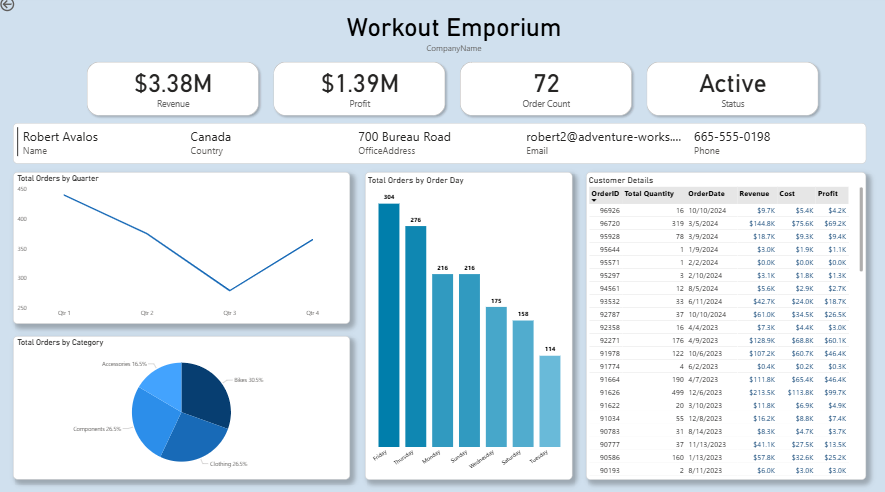

The page's visual inventory and layout, read from the dashboard file:
{"tool":"powerbi","page":{"name":"Customer","canvas":[1920,1080],"ordinal":1},"visuals":[{"type":"actionButton","box":[0,0,100,40],"z":0},{"type":"cardVisual","fields":{"Data":["FactSales.#Total Revenue","FactSales.#Profit","FactSales.#Order Count","Min(DimCustomer.Status)"]},"box":[175,127.5,1617.5,150],"z":1000},{"type":"multiRowCard","title":"Customer Details","fields":{"Values":["DimCustomer.Name","DimCustomer.Country","DimCustomer.OfficeAddress","DimCustomer.Email","DimCustomer.Phone"]},"box":[32.5,277.5,1842.5,87.5],"z":2000},{"type":"card","fields":{"Values":["Min(DimCustomer.CompanyName)"]},"box":[50,0,1870,150],"z":3000},{"type":"pieChart","title":"Total Orders by Category","fields":{"Category":["DimProduct.Category"],"Y":["FactSales.#Order Count"]},"box":[32.5,737.5,727.5,310],"z":4000},{"type":"lineChart","fields":{"Y":["CountNonNull(FactSales.CustomerKey)"],"Category":["FactSales.OrderDate.Variation.Date Hierarchy.Year","FactSales.OrderDate.Variation.Date Hierarchy.Quarter","FactSales.OrderDate.Variation.Date Hierarchy.Month","FactSales.OrderDate.Variation.Date Hierarchy.Day"]},"box":[32.5,382.5,727.5,327.5],"z":5000},{"type":"tableEx","title":"Customer Details","fields":{"Values":["FactSales.SalesOrderID","Sum(FactSales.Quantity)","FactSales.OrderDate","FactSales.#Total Revenue","FactSales.#Total Cost","FactSales.#Profit"]},"box":[1270,382.5,605,665],"z":6000},{"type":"clusteredColumnChart","title":"Total Orders by Order Day","fields":{"Y":["CountNonNull(FactSales.SalesOrderID)"],"Category":["FactSales.Order Day of Week"]},"box":[792.5,382.5,447.5,665],"z":7000}]}

Visuals, with their boxes in screenshot pixels (x1, y1, x2, y2), scaled from the page's 1920x1080 canvas onto the 885x492 screenshot:
actionButton: x1=0, y1=0, x2=46, y2=18
cardVisual - FactSales.#Total Revenue x FactSales.#Profit: x1=81, y1=58, x2=826, y2=126
"Customer Details" multiRowCard: x1=15, y1=126, x2=864, y2=166
card - Min(DimCustomer.CompanyName): x1=23, y1=0, x2=884, y2=68
"Total Orders by Category" pieChart: x1=15, y1=336, x2=350, y2=477
lineChart - CountNonNull(FactSales.CustomerKey) x FactSales.OrderDate.Variation.Date Hierarchy.Year: x1=15, y1=174, x2=350, y2=323
"Customer Details" tableEx: x1=585, y1=174, x2=864, y2=477
"Total Orders by Order Day" clusteredColumnChart: x1=365, y1=174, x2=572, y2=477
